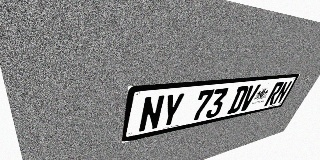3: (204, 88, 229, 119)
7: (189, 89, 215, 122)
D: (226, 85, 250, 114)
N: (138, 94, 166, 133), (272, 81, 293, 105)
R: (263, 82, 285, 106)
V: (238, 84, 261, 112)
Y: (158, 92, 185, 129)
